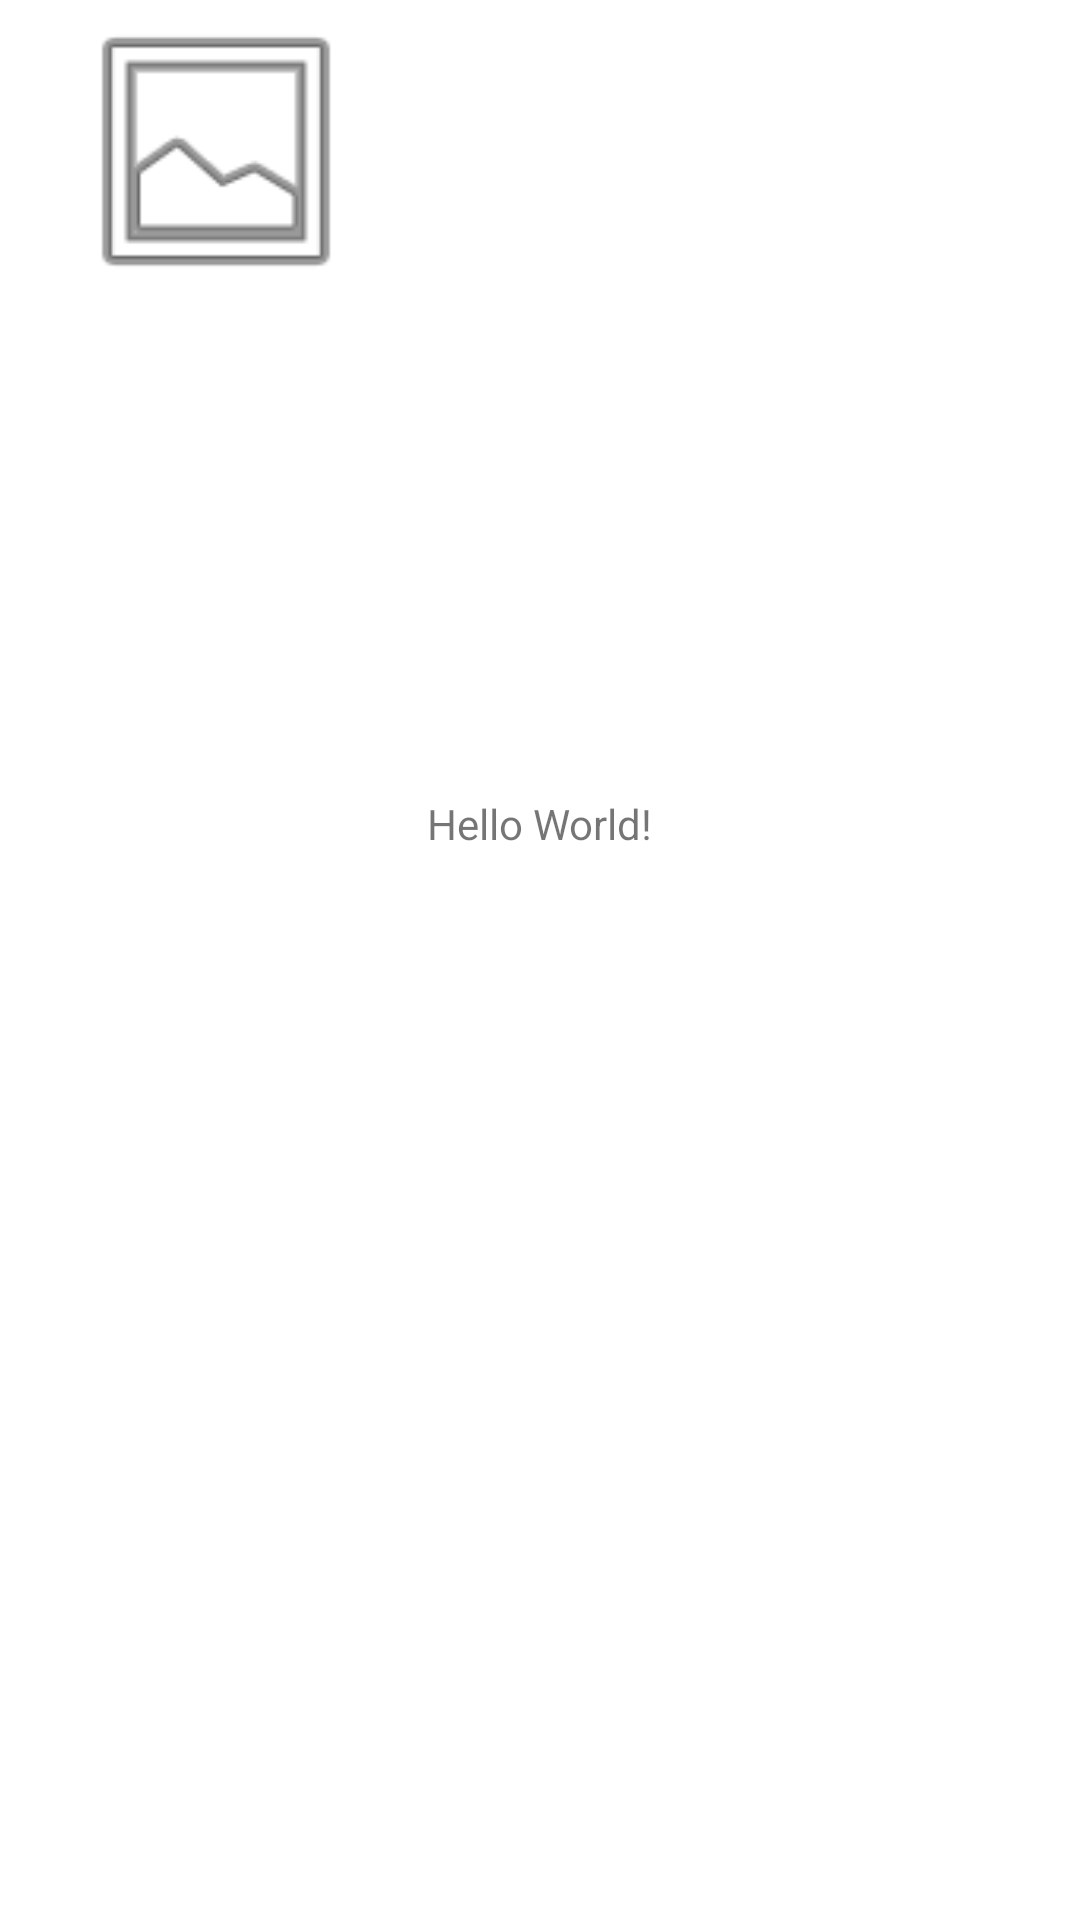

Screen size 1080w x 1920h. Icon name, then its center in pixels as (x,y):
gallery: (216,151)
